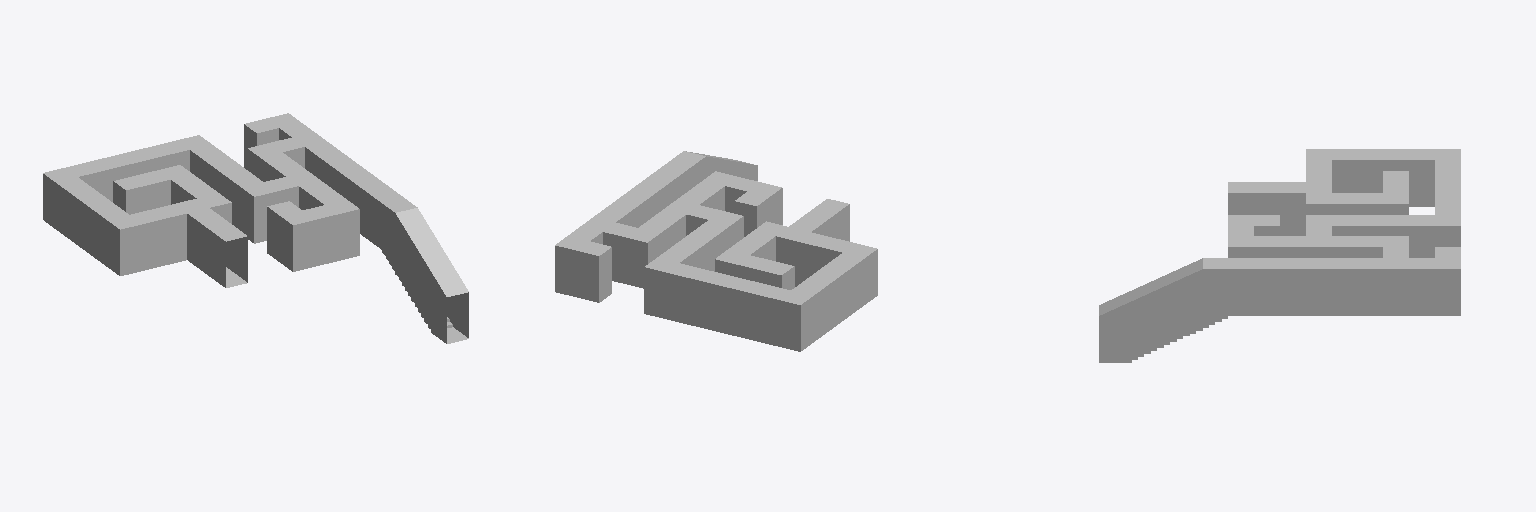
The model's file is maze.obj.
3 views of the same model, side by side, from view 1: azimuth 30°, elevation 25°; view 2: azimuth 150°, elevation 25°; view 3: azimuth 270°, elevation 25° (orthographic).
Visible parts, largest first — view 1: maze; view 2: maze; view 3: maze.
Boxes of the visible parts, box(x1,y1,x2,y2) form: maze: box(43, 113, 468, 343); maze: box(555, 151, 877, 351); maze: box(1099, 149, 1460, 362).
Bounding box in the file's own units: 11 × 4 × 14.